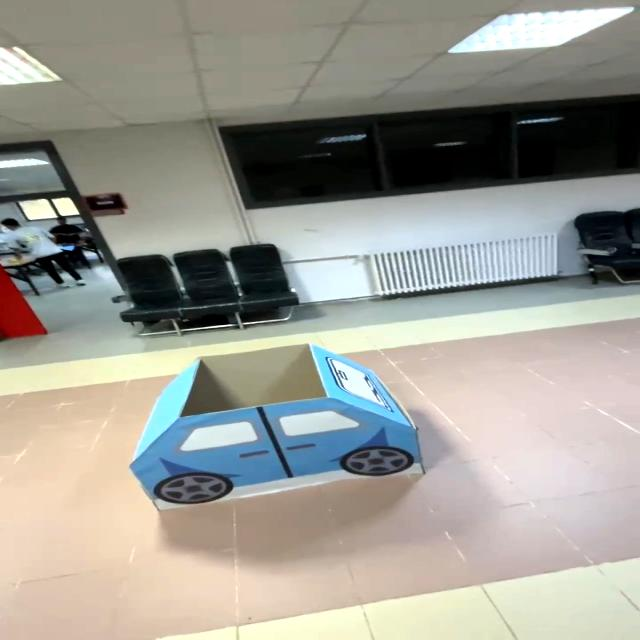blue_car: (71, 326, 450, 513)
